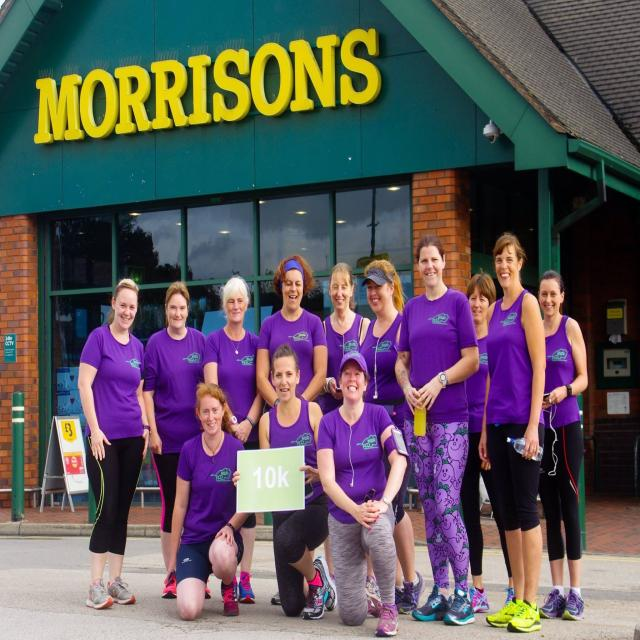body: (393, 229, 484, 630), (474, 228, 550, 637), (230, 341, 338, 622), (252, 252, 332, 610), (314, 347, 408, 640), (72, 272, 150, 614), (358, 254, 425, 616), (142, 280, 212, 600), (162, 379, 252, 623), (200, 274, 261, 605), (458, 269, 516, 616), (535, 270, 589, 622), (319, 261, 372, 417)
